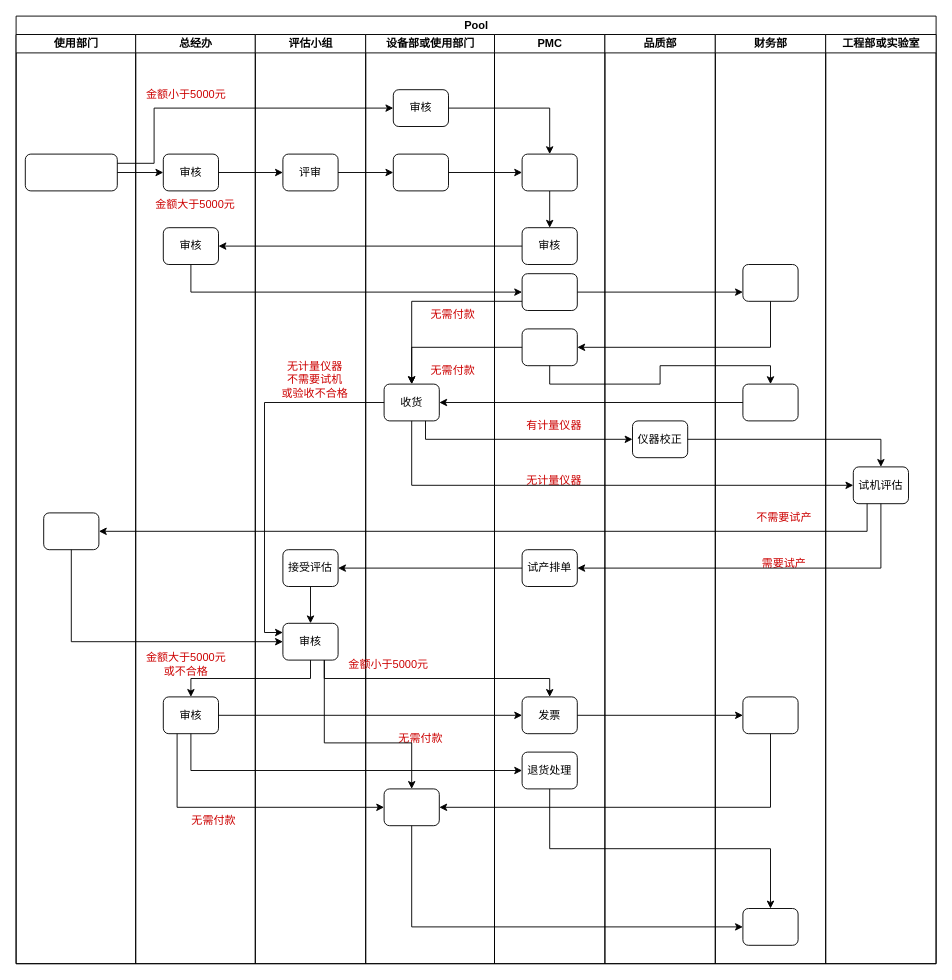
This 952x980 diagram has some shape labels left out. Here are the shapes that lost their labels. From the top down, the centre of each, then its label:
At (70,172): "使用者发起".
At (420,172): "总经理".
At (549,172): "签订合同".
At (549,291): "下单".
At (770,282): "付第一笔款".
At (549,347): "发货前验收".
At (770,402): "付第二笔款".
At (71,531): "接受".
At (770,715): "付第三笔款".
At (411,807): "台账".
At (770,926): "结束".
